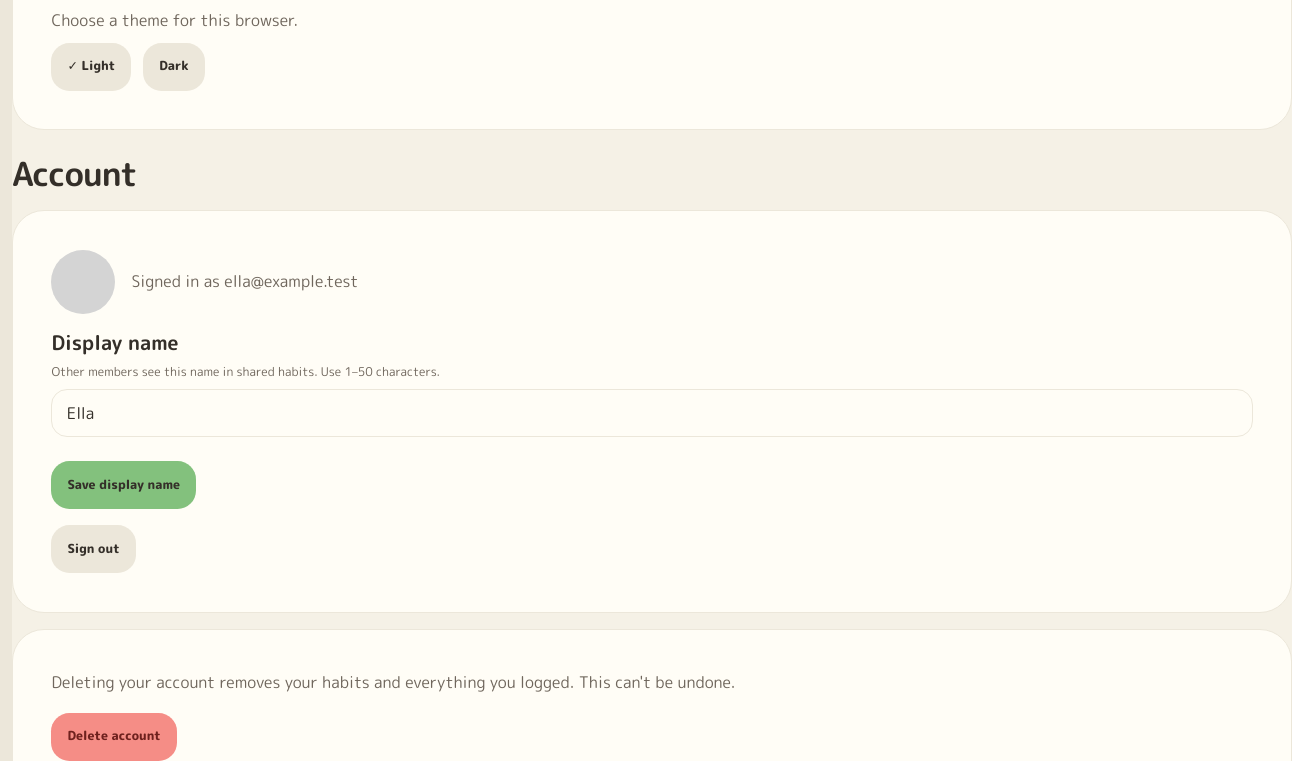
Test: Settings display name (#259) › invalidates the caller's shared habit and invite summaries after saving
(page scrolled)
Replace the text in the field labelled "Display name" with "Ella D" at (652, 413), box x1=51 y1=389 x2=1253 y2=437
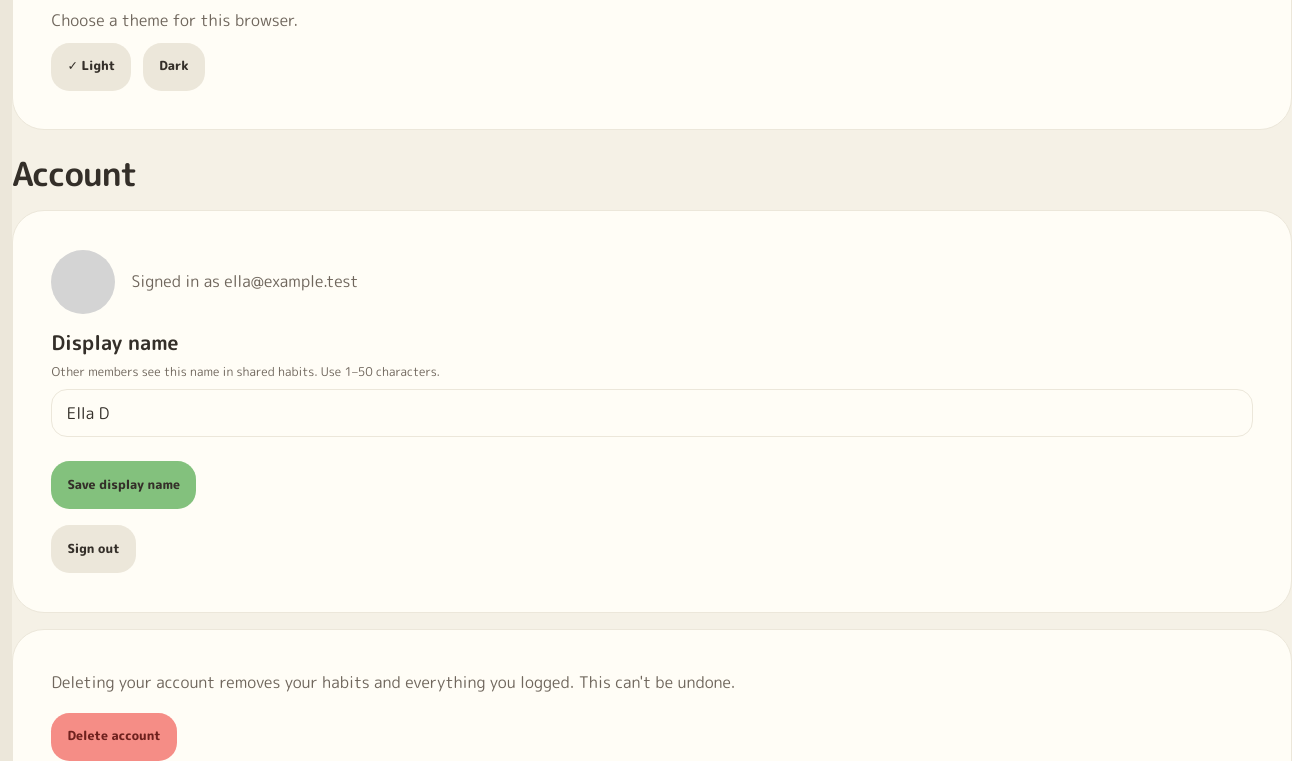
Click the button "Save display name" at (124, 485), box x1=51 y1=461 x2=196 y2=509
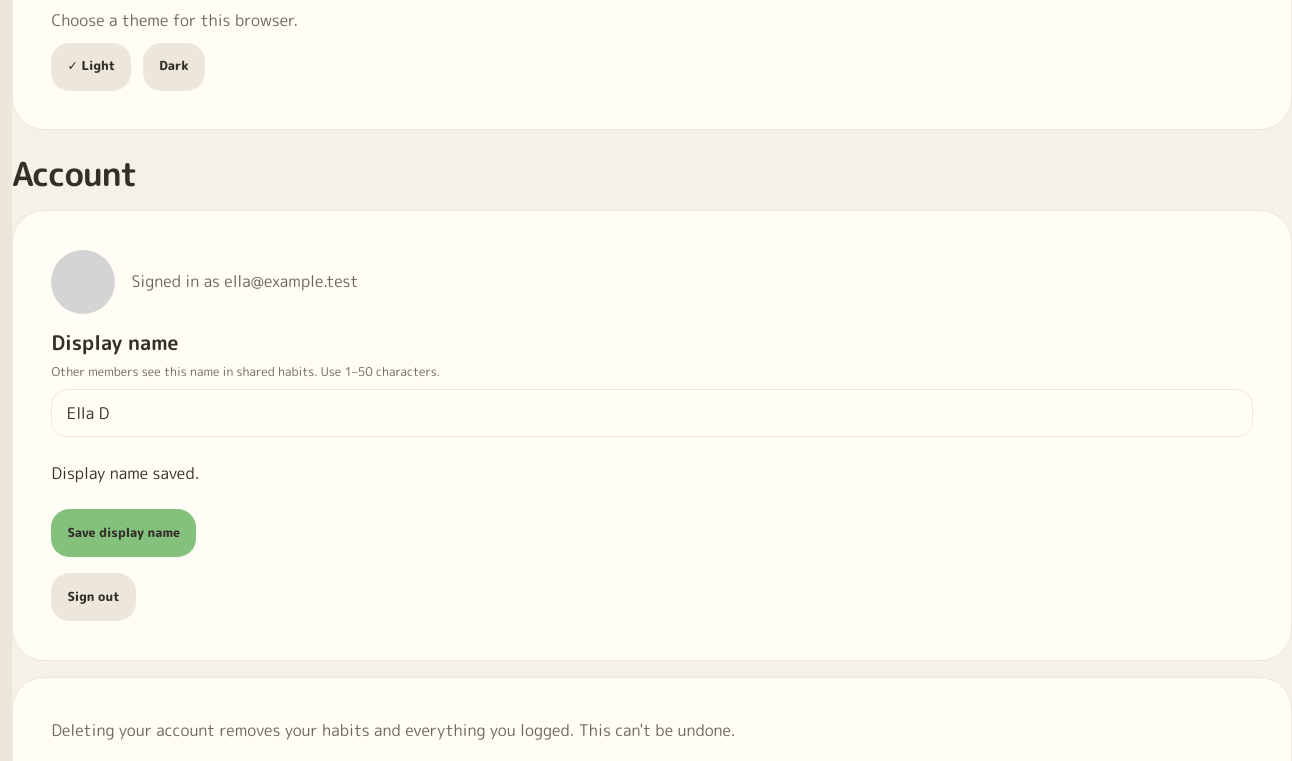
Check: the text "Display name saved." is shown, box x1=51 y1=462 x2=199 y2=484
